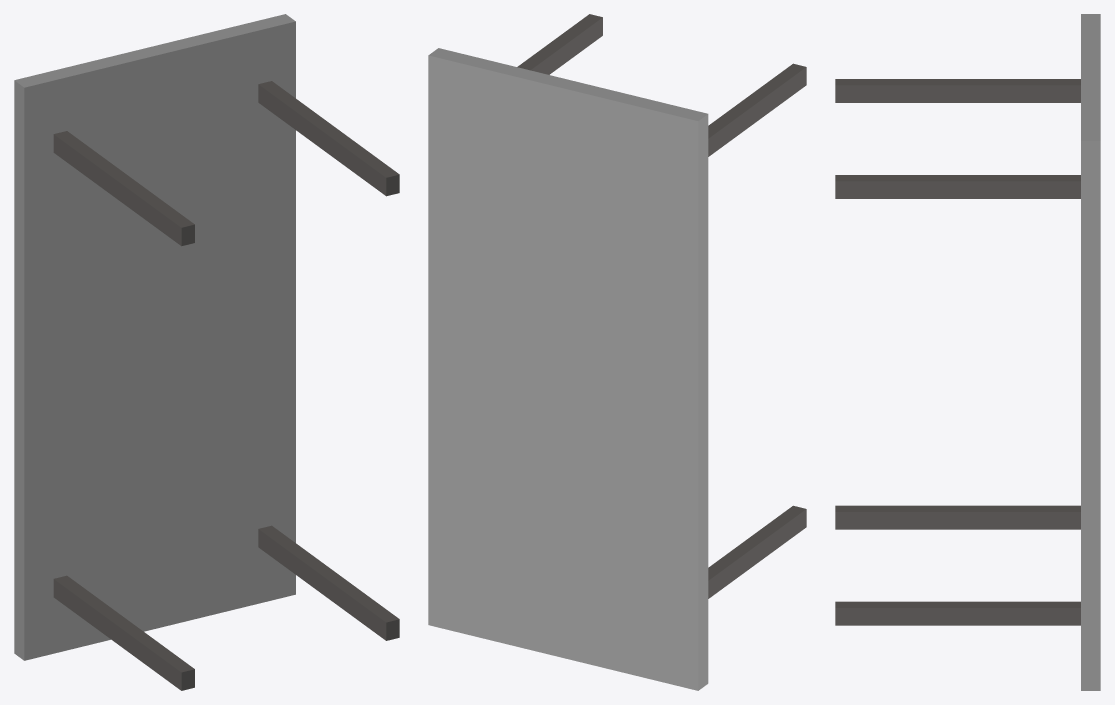
The model's file is Desk5.glb.
The picture shows the model from 3 angles, left to right: view 1: azimuth 30°, elevation 25°; view 2: azimuth 150°, elevation 25°; view 3: azimuth 270°, elevation 25°; orthographic projection. The views are drawn at different scales.
Visible parts, largest first — view 1: SO_Desk_05; view 2: SO_Desk_05; view 3: SO_Desk_05.
Boxes of the visible parts, x1,y1,x2,y2 form: SO_Desk_05: (14, 14, 399, 690); SO_Desk_05: (428, 14, 806, 690); SO_Desk_05: (835, 14, 1100, 690).
Bounding box in the file's own units: 1.79 × 3.61 × 1.58.
Materials: 1 (1 with a texture image).
